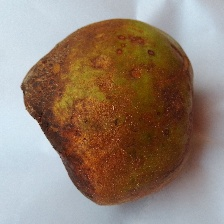guava: (38, 15, 224, 209)
